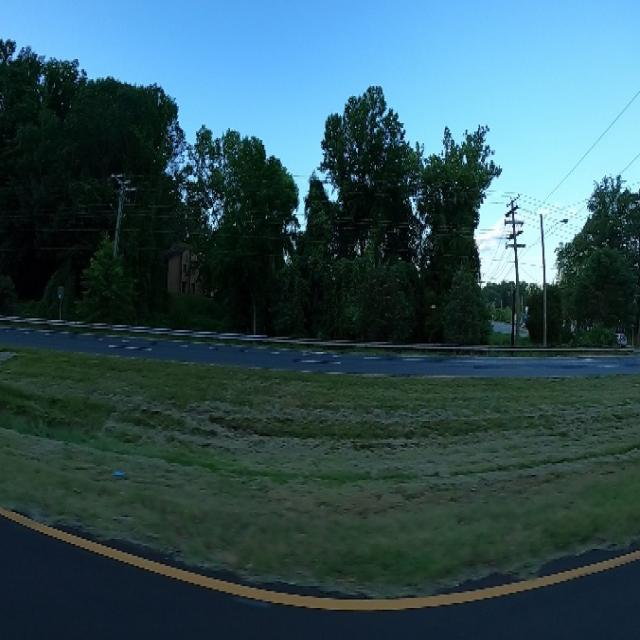cars: (609, 328, 630, 347)
